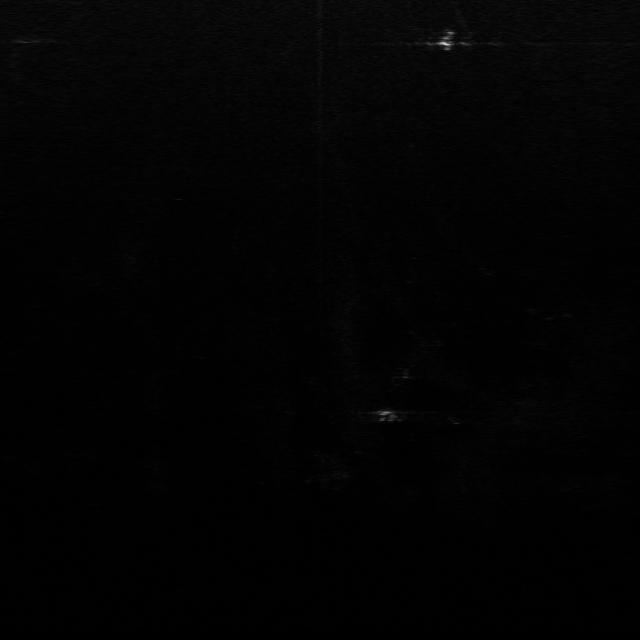rov: (432, 27, 463, 51)
